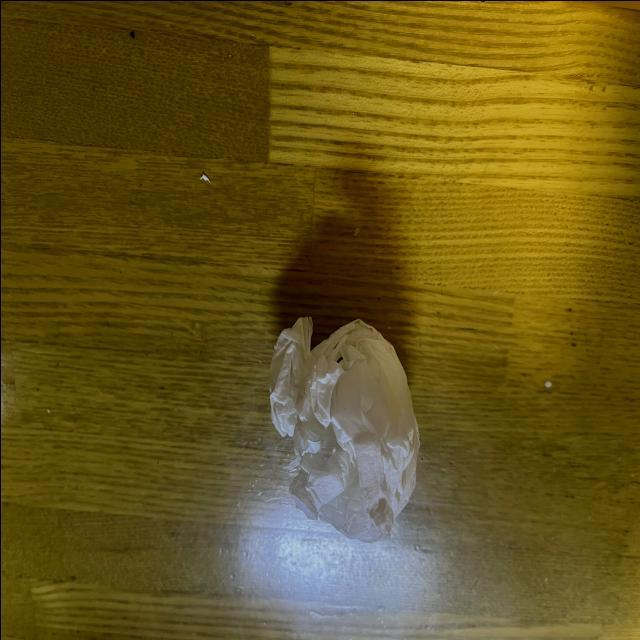Paper: (274, 306, 412, 566)
